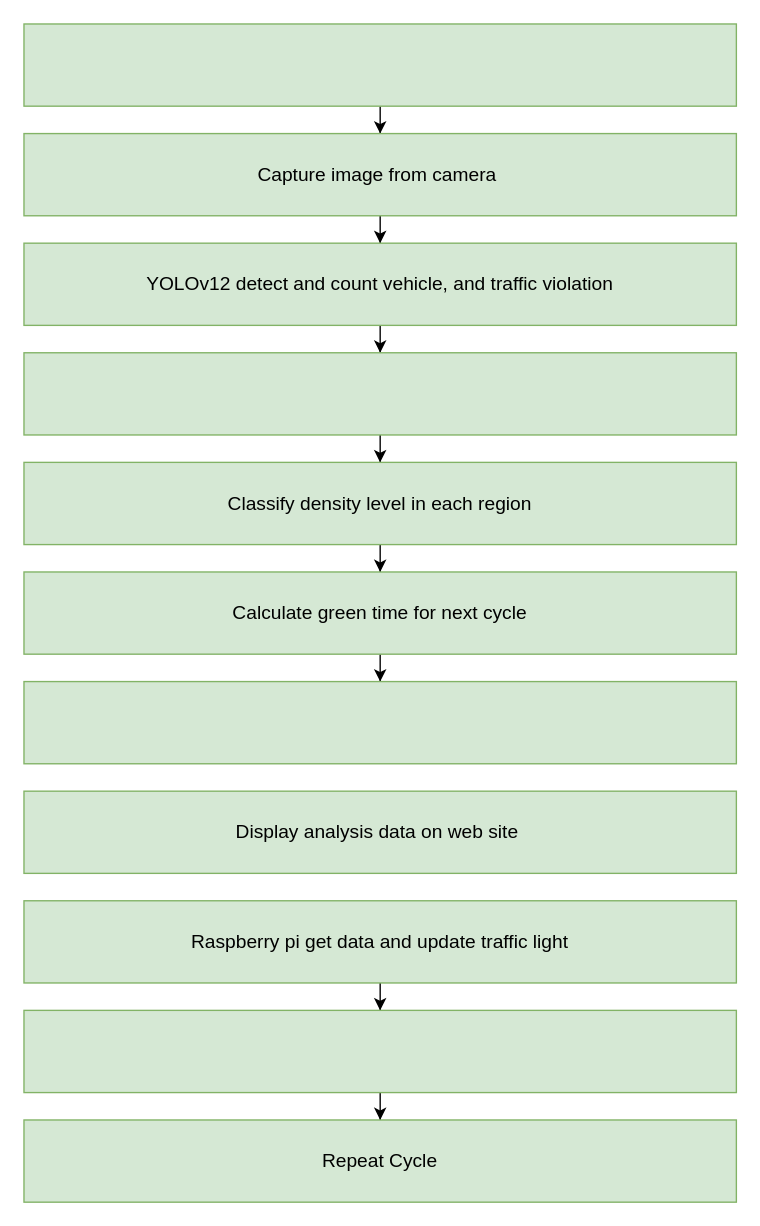
The diagram is 760 pixels wide and 1226 high, and some of its shapes have lost their labels. Each missing label, with the box of its shape:
Application Start: (23, 23, 736, 106)
Determine traffic density in each region (North, South, East, West): (23, 351, 736, 435)
End: (23, 1009, 736, 1093)
Transmit data to Raspberry pi: (23, 680, 736, 764)
